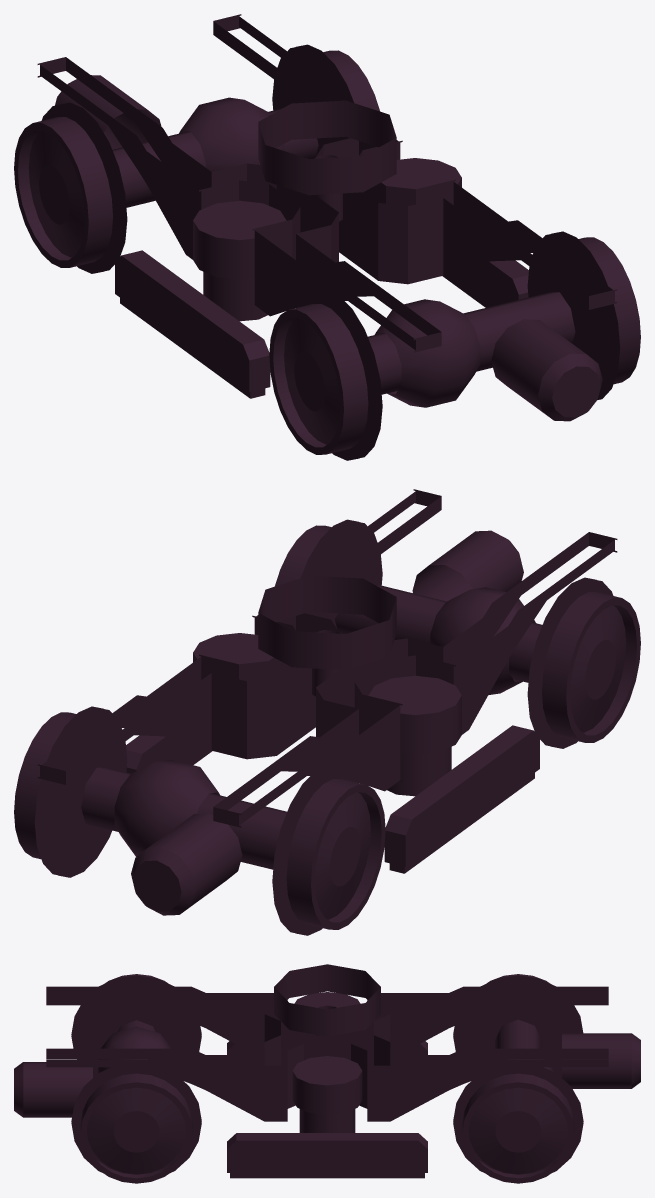
File: vagon cart lod1.FBX
3 renders of one model, top to bottom at view 1: azimuth 30°, elevation 25°; view 2: azimuth 150°, elevation 25°; view 3: azimuth 270°, elevation 25°, orthographic. The views are drawn at different scales.
Visible parts, largest first — view 1: base003, wheel 006, wheel 007; view 2: base003, wheel 007, wheel 006; view 3: base003, wheel 006, wheel 007.
Part boxes in pixels (left/top/right/bottom): base003: left=37, top=14, right=617, bottom=421; wheel 006: left=269, top=231, right=640, bottom=460; wheel 007: left=14, top=44, right=379, bottom=273; base003: left=37, top=489, right=617, bottom=915; wheel 007: left=14, top=706, right=385, bottom=935; wheel 006: left=275, top=519, right=640, bottom=748; base003: left=14, top=964, right=640, bottom=1178; wheel 006: left=71, top=974, right=201, bottom=1183; wheel 007: left=453, top=974, right=583, bottom=1183.
Bounding box in the file's own units: 1.1 × 0.7151 × 2.69.
